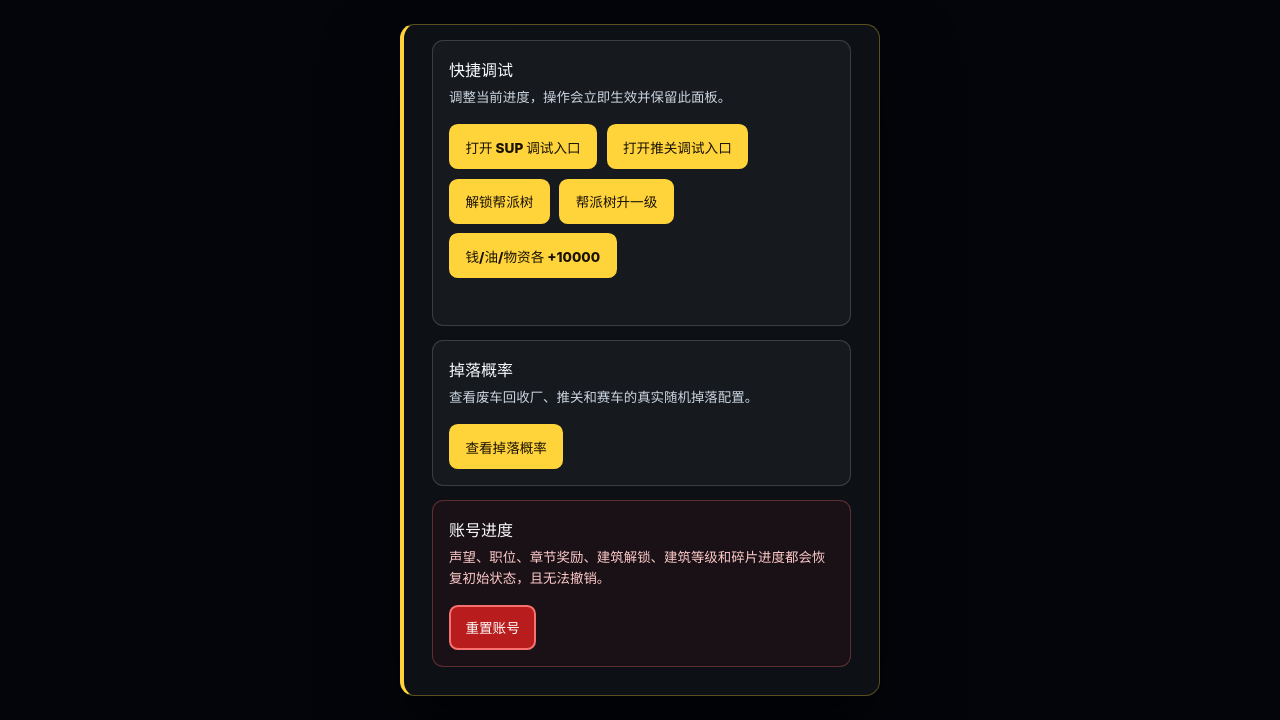
SettingsPanel › cancels confirmation without resetting
(page scrolled)
Click the button "重置账号". click: (493, 627)
box: [449,605,536,650]
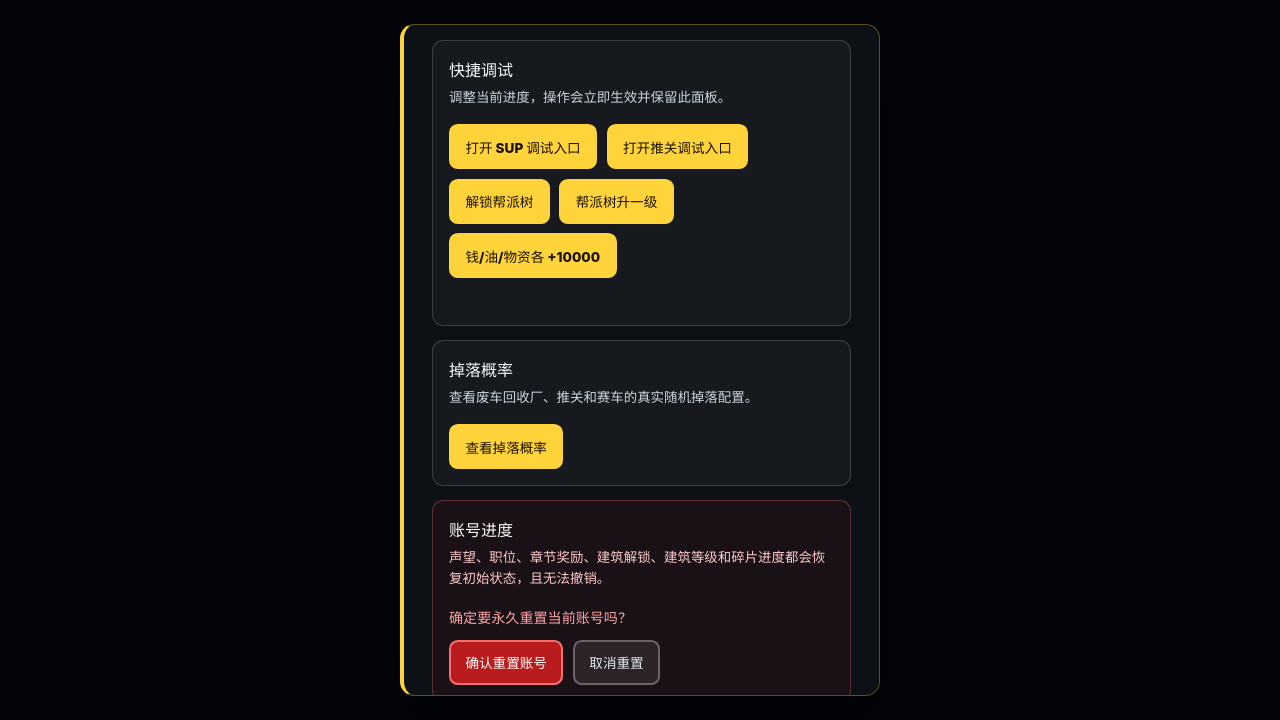
Click the button "取消重置". click: (616, 662)
box: [573,640,660,685]
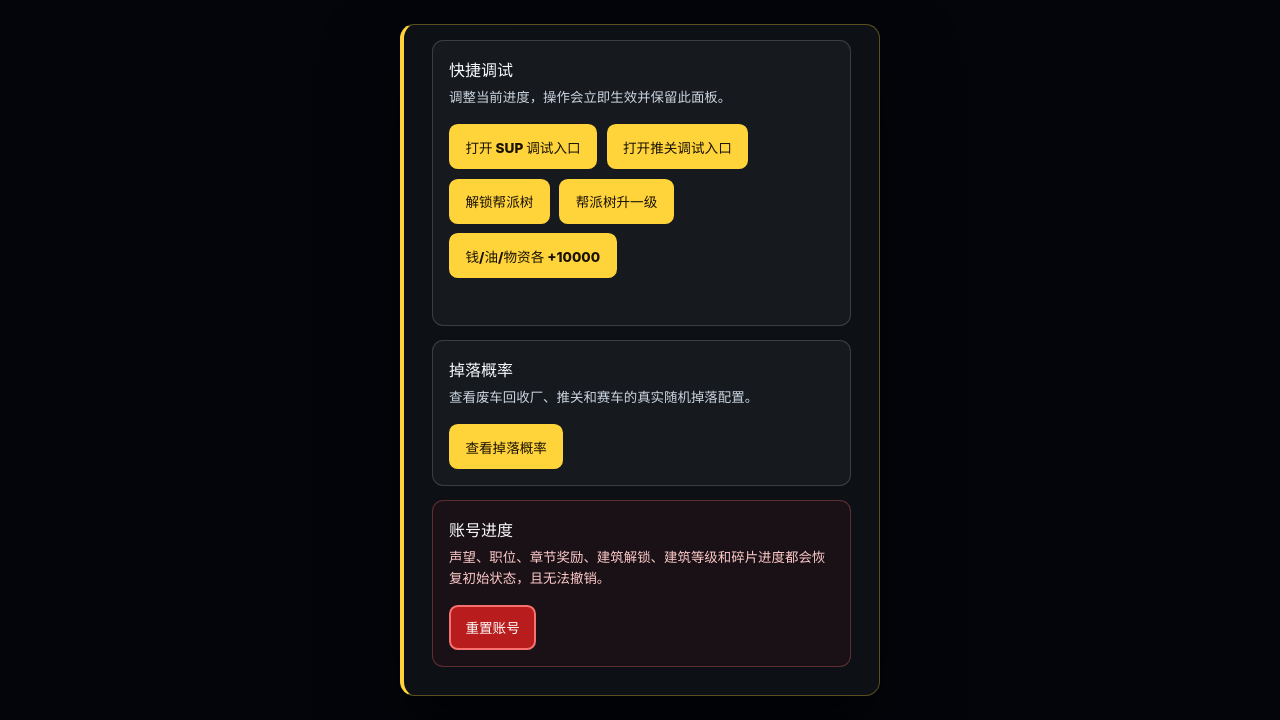
Expected: the button "重置账号" is shown, [449,605,536,650]
Expected: the button "确认重置账号" is gone
